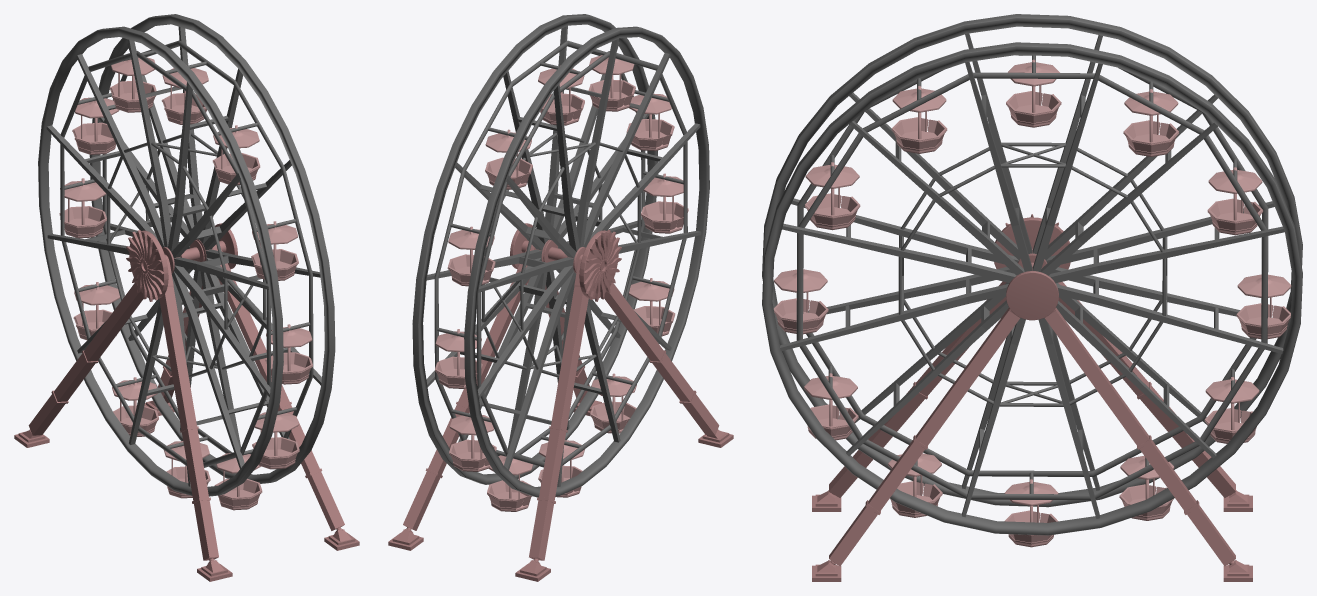
Rendered from roue.fbx.
The picture shows the model from 3 angles, left to right: view 1: azimuth 30°, elevation 25°; view 2: azimuth 150°, elevation 25°; view 3: azimuth 270°, elevation 25°; orthographic projection. The views are drawn at different scales.
Parts seen in each view (by area): view 1: grande_roue; view 2: grande_roue; view 3: grande_roue.
Boxes of the visible parts, x1,y1,x2,y2 form: grande_roue: (14,14,359,581); grande_roue: (388,14,733,581); grande_roue: (762,14,1302,581).
Size of the model in its own units: 57.85 by 168 by 161.
